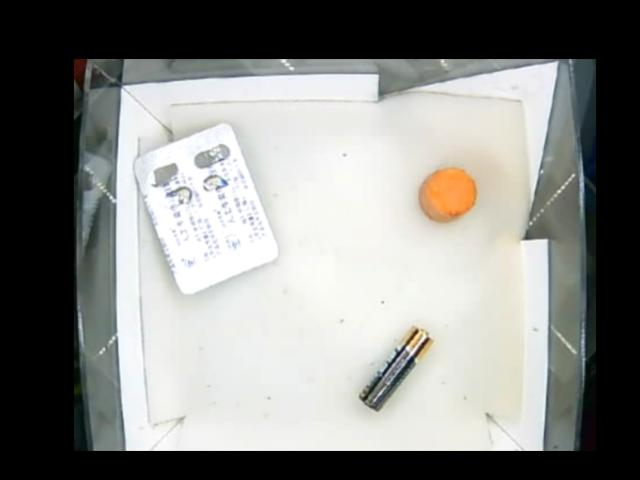Battery: (356, 325, 433, 414)
Carrot: (416, 167, 477, 224)
Medicine: (134, 122, 279, 296)
